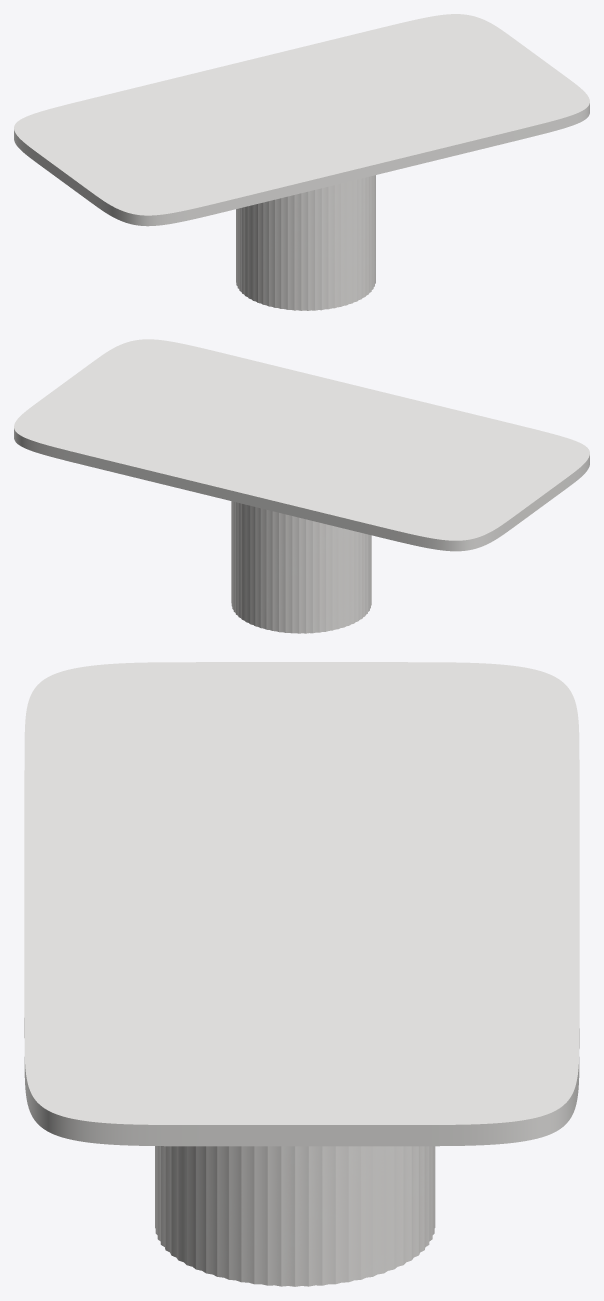
The model's file is purewhite_softrecta_standard_ripple.glb.
The picture shows the model from 3 angles, top to bottom: view 1: azimuth 30°, elevation 25°; view 2: azimuth 150°, elevation 25°; view 3: azimuth 270°, elevation 25°; orthographic projection. The views are drawn at different scales.
Parts seen in each view (by area): view 1: standard_softrecta, ripple; view 2: standard_softrecta, ripple; view 3: standard_softrecta, ripple.
Part boxes in pixels (left/top/right/bottom): standard_softrecta: left=14, top=14, right=589, bottom=226; ripple: left=236, top=175, right=375, bottom=310; standard_softrecta: left=14, top=339, right=589, bottom=551; ripple: left=231, top=501, right=371, bottom=633; standard_softrecta: left=24, top=662, right=579, bottom=1146; ripple: left=155, top=1146, right=435, bottom=1286.
Size of the model in its own units: 7.5 by 2.51 by 3.8.
1 material, 1 textured.
